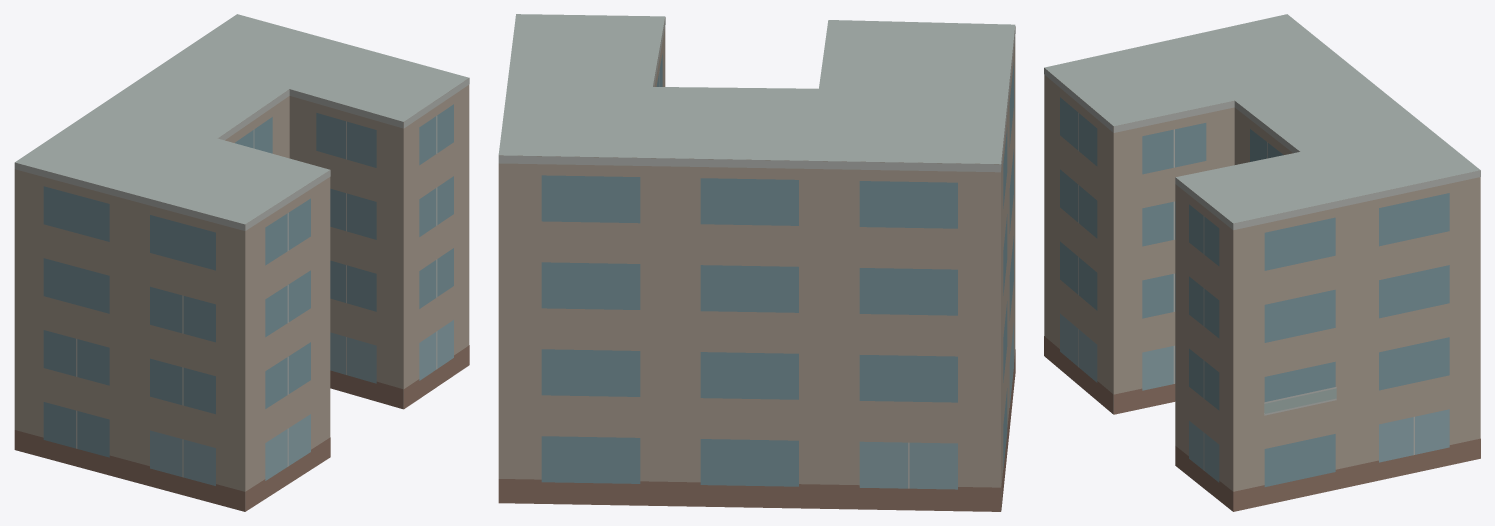
File: survey-upis-32593275.glb
3 views of the same model, side by side, from view 1: azimuth 30°, elevation 25°; view 2: azimuth 150°, elevation 25°; view 3: azimuth 270°, elevation 25° (orthographic). The views are drawn at different scales.
Visible parts, largest first — view 1: survey-upis-32593275.tmp; view 2: survey-upis-32593275.tmp; view 3: survey-upis-32593275.tmp.
Boxes of the visible parts, bbox=[...] form: survey-upis-32593275.tmp: bbox=[14, 14, 469, 511]; survey-upis-32593275.tmp: bbox=[498, 14, 1015, 511]; survey-upis-32593275.tmp: bbox=[1044, 14, 1480, 511].
Bounding box in the file's own units: 16.29 × 10.45 × 14.35.
